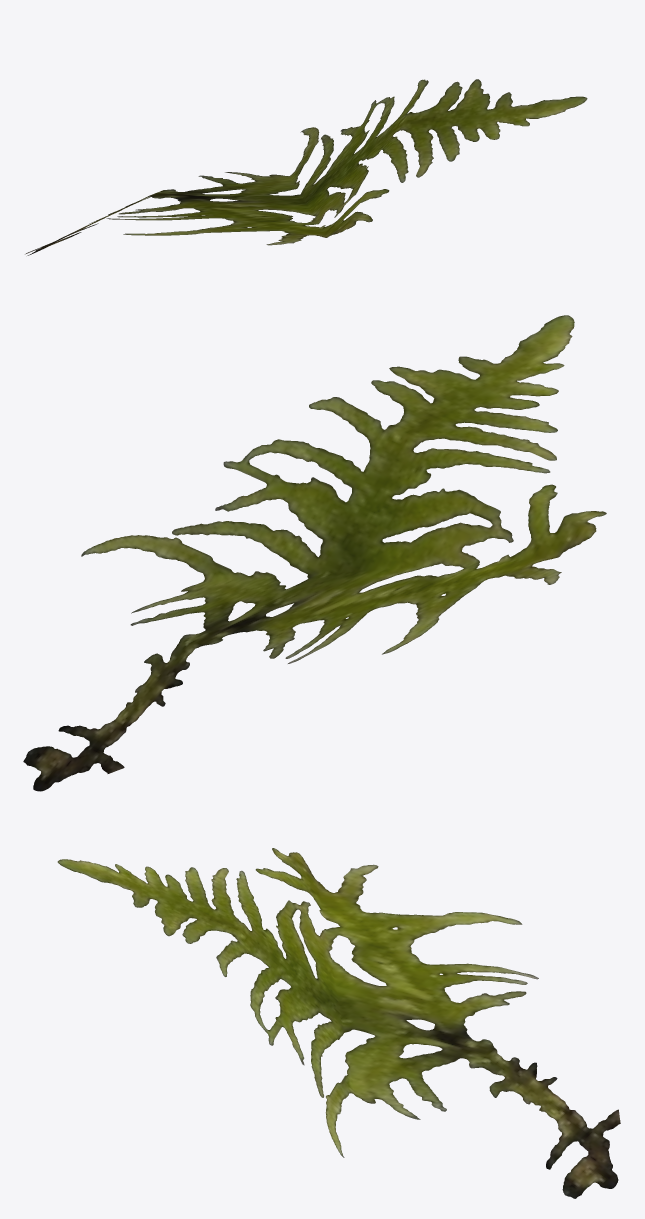
The model's file is moss_01_j_LOD1.glb.
3 renders of one model, top to bottom at view 1: azimuth 90°, elevation 25°; view 2: azimuth 150°, elevation 25°; view 3: azimuth 270°, elevation 25°, orthographic. The views are drawn at different scales.
Parts seen in each view (by area): view 1: moss_01_j_LOD1__lod0; view 2: moss_01_j_LOD1__lod0; view 3: moss_01_j_LOD1__lod0.
Boxes of the visible parts, left/top/right/bottom form: moss_01_j_LOD1__lod0: left=25, top=79, right=587, bottom=255; moss_01_j_LOD1__lod0: left=23, top=315, right=606, bottom=791; moss_01_j_LOD1__lod0: left=57, top=848, right=620, bottom=1198.
Size of what is drawn, in the model's own units: 0.0166 by 0.00889 by 0.0188.
1 material, 1 textured.
